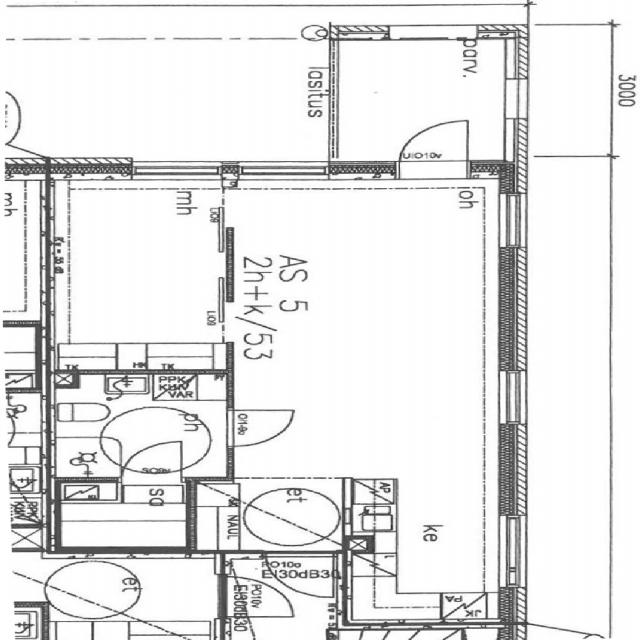door: (398, 120, 466, 180), (266, 550, 333, 599), (122, 442, 181, 483), (227, 410, 294, 446)
